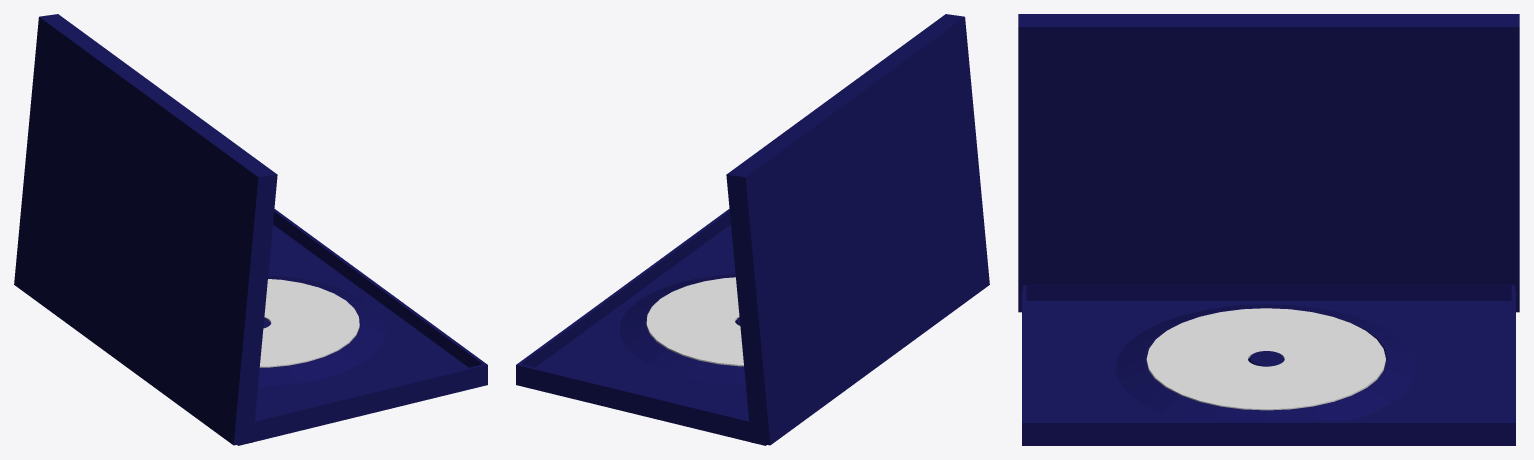
The model's file is PS2-Case.fbx.
The picture shows the model from 3 angles, left to right: view 1: azimuth 30°, elevation 25°; view 2: azimuth 150°, elevation 25°; view 3: azimuth 270°, elevation 25°; orthographic projection. The views are drawn at different scales.
Visible parts, largest first — view 1: Cube.009, Cube.008, Cylinder.003, Cylinder.001; view 2: Cube.009, Cube.008, Cylinder.003, Cylinder.001; view 3: Cube.009, Cube.008, Cylinder.003, Cylinder.001.
Boxes of the visible parts, x1=… form: Cube.009: x1=14, y1=14, x2=277, y2=445; Cube.008: x1=237, y1=209, x2=487, y2=445; Cylinder.003: x1=259, y1=279, x2=359, y2=367; Cylinder.001: x1=258, y1=275, x2=386, y2=386; Cube.009: x1=726, y1=14, x2=989, y2=445; Cube.008: x1=516, y1=209, x2=766, y2=445; Cylinder.003: x1=646, y1=277, x2=743, y2=366; Cylinder.001: x1=619, y1=274, x2=745, y2=384; Cube.009: x1=1018, y1=14, x2=1519, y2=312; Cube.008: x1=1022, y1=285, x2=1515, y2=445; Cylinder.003: x1=1146, y1=308, x2=1385, y2=410; Cylinder.001: x1=1115, y1=304, x2=1417, y2=420.
Bounding box in the file's own units: 130 × 129 × 193.
